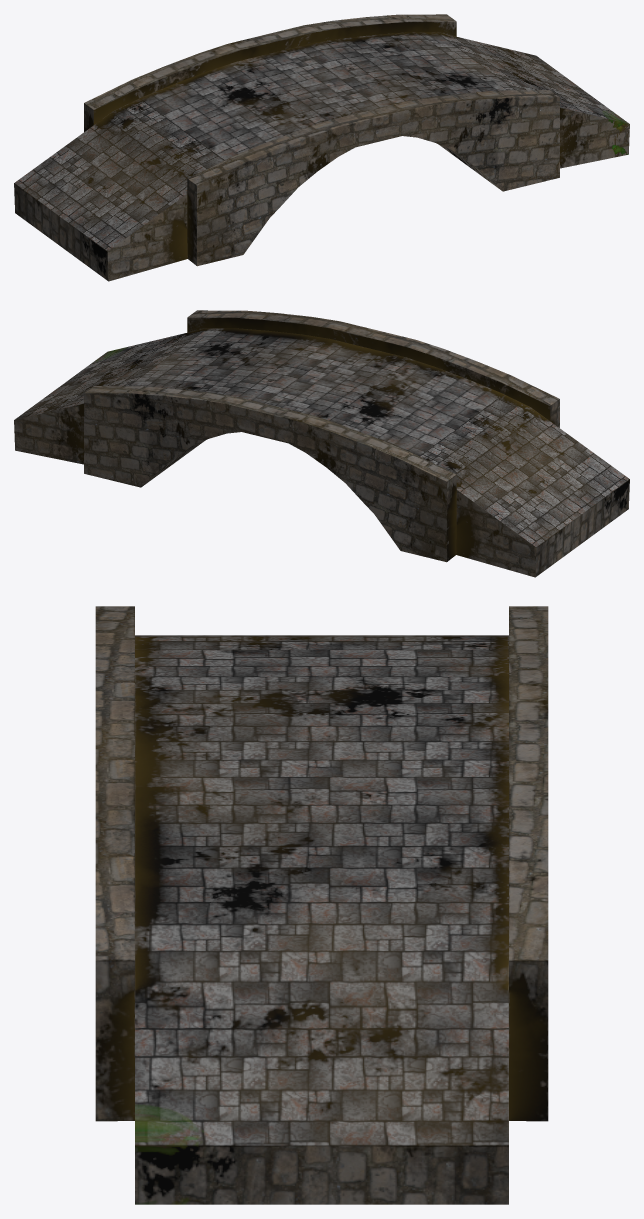
The model's file is medieval_bridge.gltf.
3 renders of one model, top to bottom at view 1: azimuth 30°, elevation 25°; view 2: azimuth 150°, elevation 25°; view 3: azimuth 270°, elevation 25°, orthographic. The views are drawn at different scales.
Visible parts, largest first — view 1: pCube1_lambert1_0; view 2: pCube1_lambert1_0; view 3: pCube1_lambert1_0.
Part boxes in pixels (<box>): pCube1_lambert1_0: <box>14,14,629,281</box>; pCube1_lambert1_0: <box>14,310,629,577</box>; pCube1_lambert1_0: <box>95,606,548,1204</box>.
Bounding box in the file's own units: 114 × 22.53 × 42.85.
Materials: 1 (1 with a texture image).
